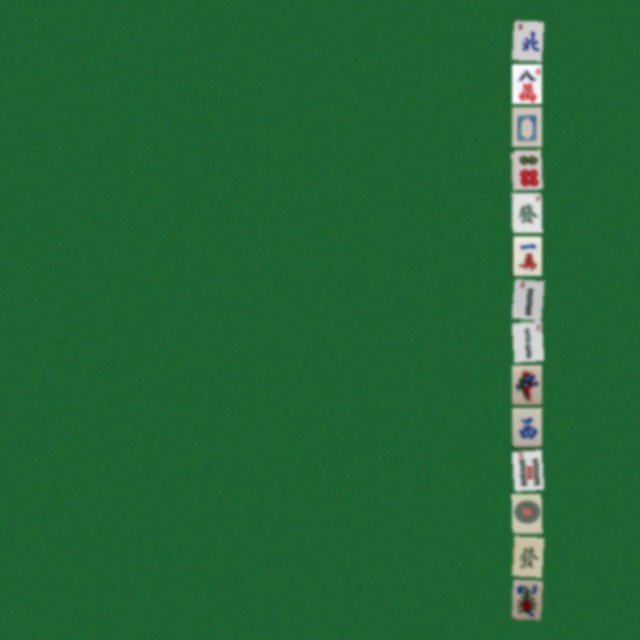tile: (511, 20, 541, 60), (511, 63, 541, 103), (511, 106, 541, 146), (511, 149, 541, 189), (511, 192, 541, 232), (511, 235, 541, 275), (511, 278, 541, 318), (511, 321, 541, 361), (511, 364, 541, 404), (511, 407, 541, 447), (511, 450, 541, 490), (511, 493, 541, 533), (511, 536, 541, 576), (511, 579, 541, 619)
